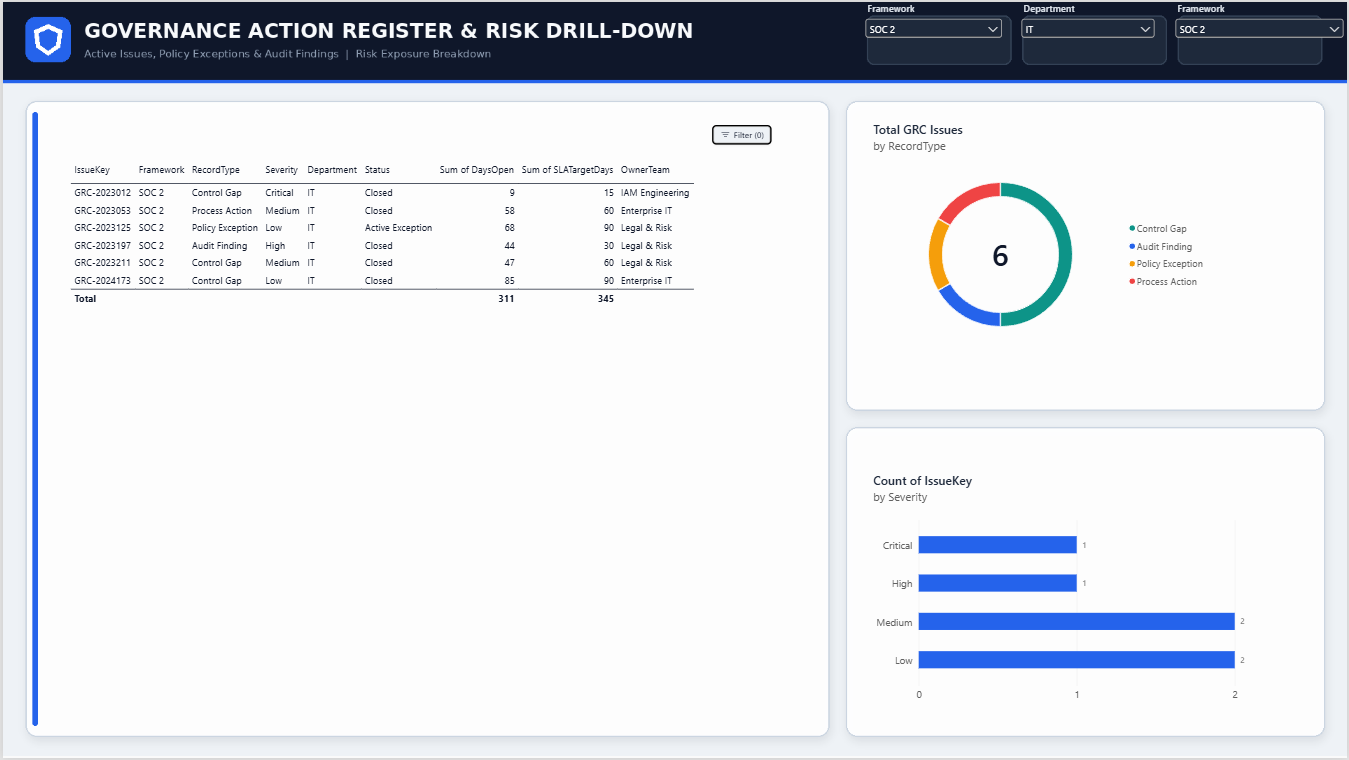

What the dashboard file says about the page in this screenshot:
{"tool":"powerbi","page":{"name":"Action Register","canvas":[1920,1080],"ordinal":1},"visuals":[{"type":"slicer","fields":{"Values":["fact_grc_issues_exceptions.Framework"]},"box":[1670,0,250,105],"z":0},{"type":"slicer","fields":{"Values":["dim_department.Department"]},"box":[1450,0,200,105],"z":1000},{"type":"slicer","fields":{"Values":["fact_grc_issues_exceptions.Framework"]},"box":[1227.5,0,205,105],"z":2000},{"type":"tableEx","fields":{"Values":["fact_grc_issues_exceptions.IssueKey","fact_grc_issues_exceptions.Framework","fact_grc_issues_exceptions.RecordType","dim_severity.Severity","dim_department.Department","fact_grc_issues_exceptions.Status","Sum(fact_grc_issues_exceptions.DaysOpen)","Sum(fact_grc_issues_exceptions.SLATargetDays)","fact_grc_issues_exceptions.OwnerTeam"]},"box":[80,155.7,1040,312.9],"z":3000},{"type":"donutChart","fields":{"Category":["fact_grc_issues_exceptions.RecordType"],"Y":["_Measures.Total GRC Issues"]},"box":[1227.5,155,512.5,350],"z":4000},{"type":"barChart","fields":{"Category":["dim_severity.Severity"],"Y":["CountNonNull(fact_grc_issues_exceptions.IssueKey)"]},"box":[1227.5,657.5,567.5,362.5],"z":5000}]}

Visuals, with their boxes in screenshot pixels (x1, y1, x2, y2), scaled from the page's 1920x1080 canvas onto the 1349x760 screenshot:
slicer - fact_grc_issues_exceptions.Framework: pyautogui.locateOnScreen(1173, 0, 1348, 74)
slicer - dim_department.Department: pyautogui.locateOnScreen(1019, 0, 1159, 74)
slicer - fact_grc_issues_exceptions.Framework: pyautogui.locateOnScreen(862, 0, 1006, 74)
tableEx - fact_grc_issues_exceptions.IssueKey x fact_grc_issues_exceptions.Framework: pyautogui.locateOnScreen(56, 110, 787, 330)
donutChart - fact_grc_issues_exceptions.RecordType x _Measures.Total GRC Issues: pyautogui.locateOnScreen(862, 109, 1223, 355)
barChart - dim_severity.Severity x CountNonNull(fact_grc_issues_exceptions.IssueKey): pyautogui.locateOnScreen(862, 463, 1261, 718)
